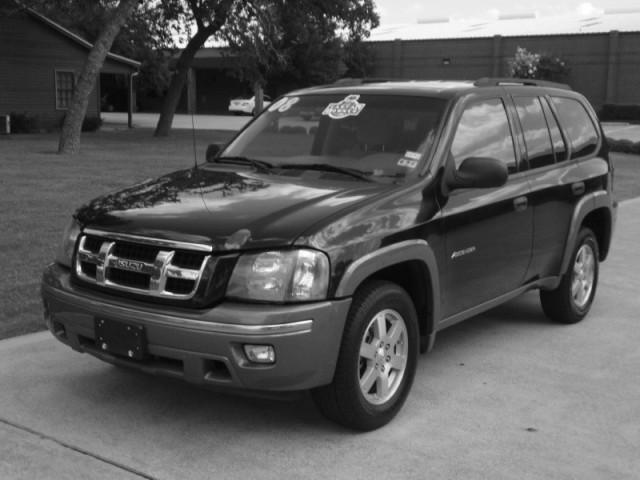car: (36, 80, 622, 441)
